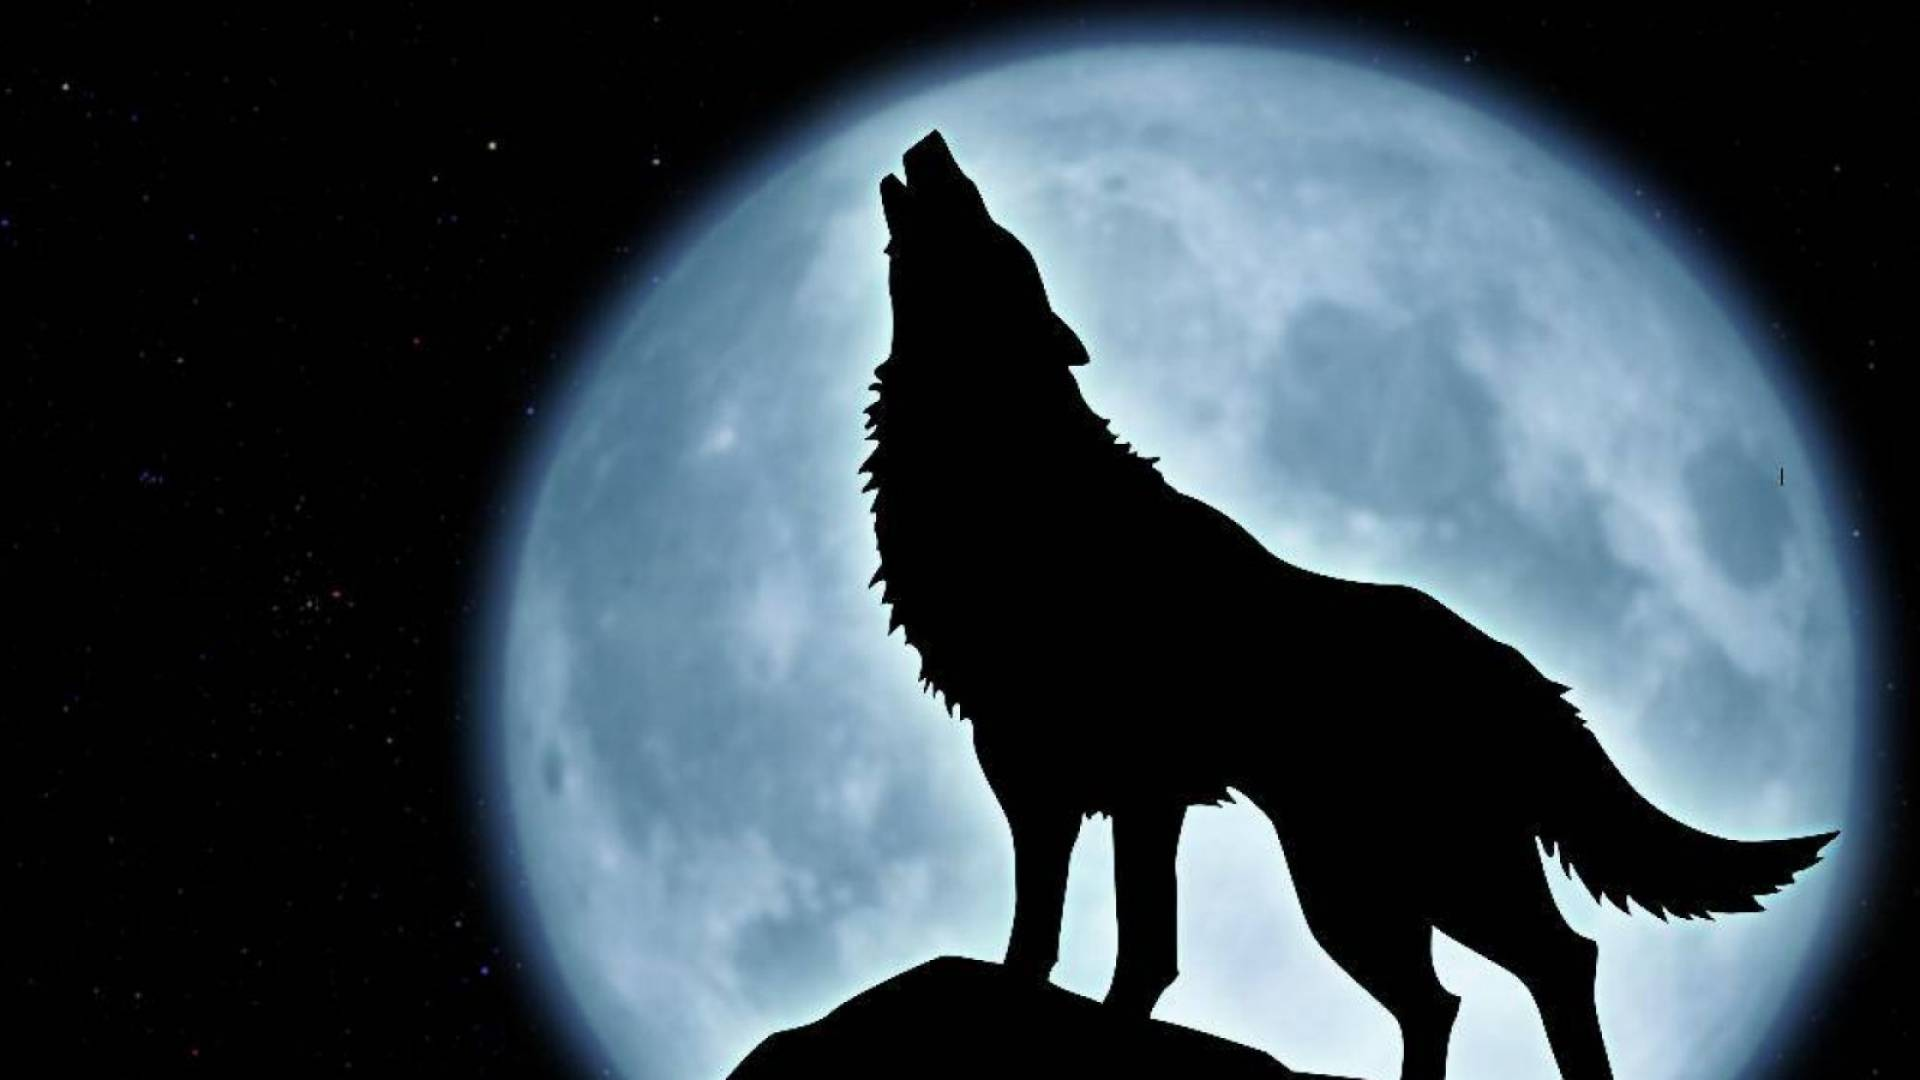Lobo: (831, 100, 1851, 1075)
